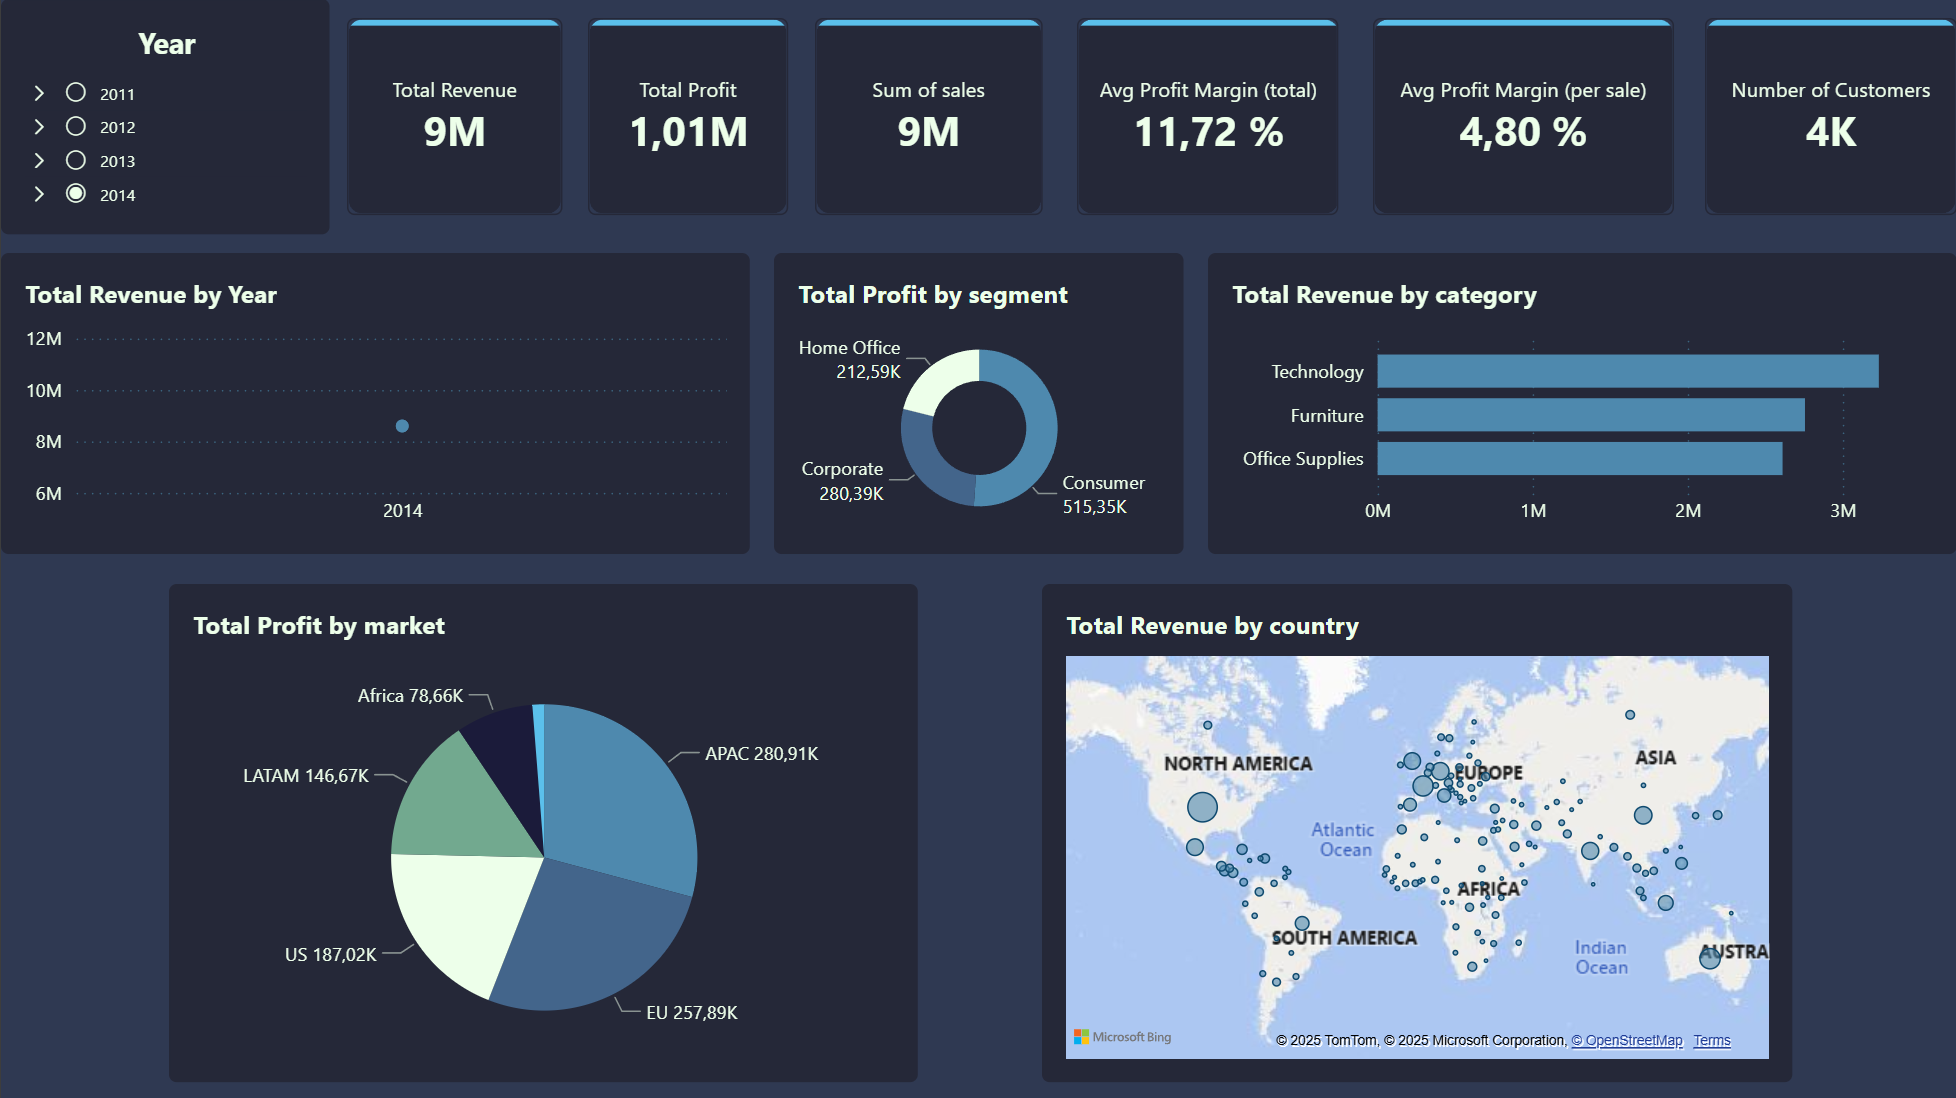

The page's visual inventory and layout, read from the dashboard file:
{"tool":"powerbi","page":{"name":"Page 1","canvas":[1280,720],"ordinal":0},"visuals":[{"type":"listSlicer","fields":{"Values":["public orders.order_date.Variation.Date Hierarchy.Year","public orders.order_date.Variation.Date Hierarchy.Quarter","public orders.order_date.Variation.Date Hierarchy.Month","public orders.order_date.Variation.Date Hierarchy.Day"]},"box":[0,0,215.3,154.4],"z":0},{"type":"cardVisual","fields":{"Data":["Measure Table.Total Revenue"]},"box":[226.4,12.4,140.7,128.9],"z":1000},{"type":"cardVisual","fields":{"Data":["Measure Table.Total Profit"]},"box":[384.1,12.4,130.9,128.9],"z":2000},{"type":"cardVisual","fields":{"Data":["Measure Table.Avg Profit Margin (weighted)"]},"box":[704.1,12.4,171.5,128.9],"z":3000},{"type":"cardVisual","fields":{"Data":["Measure Table.Avg Profit Margin (row avg)"]},"box":[897.8,12.4,197,128.9],"z":4000},{"type":"cardVisual","fields":{"Data":["Measure Table.Number of Customers"]},"box":[1115.1,12.4,164.9,128.9],"z":5000},{"type":"cardVisual","fields":{"Data":["Sum(public orders.sales)"]},"box":[532.7,12.4,148.5,128.9],"z":6000},{"type":"clusteredBarChart","fields":{"Category":["public orders.category"],"Y":["Measure Table.Total Revenue"]},"box":[789.9,166.2,490.1,197],"z":7000},{"type":"lineChart","fields":{"Category":["public orders.order_date.Variation.Date Hierarchy.Year","public orders.order_date.Variation.Date Hierarchy.Quarter","public orders.order_date.Variation.Date Hierarchy.Month","public orders.order_date.Variation.Date Hierarchy.Day"],"Y":["Measure Table.Total Revenue"]},"box":[0,166.2,490.1,197],"z":8000},{"type":"donutChart","fields":{"Category":["public orders.segment"],"Y":["Measure Table.Total Profit"]},"box":[505.8,166.2,267.6,197],"z":9000},{"type":"pieChart","fields":{"Y":["Measure Table.Total Profit"],"Category":["public orders.market_1"]},"box":[109.9,382.8,490.1,325.9],"z":10000},{"type":"map","fields":{"Category":["public orders.country"],"Size":["Measure Table.Total Revenue"]},"box":[681.2,382.8,490.8,325.9],"z":11000}]}

Visuals, with their boxes in screenshot pixels (x1, y1, x2, y2), scaled from the page's 1280x720 canvas onto the 1956x1098 screenshot:
listSlicer - public orders.order_date.Variation.Date Hierarchy.Year x public orders.order_date.Variation.Date Hierarchy.Quarter: crop(0, 0, 329, 235)
cardVisual - Measure Table.Total Revenue: crop(346, 19, 561, 215)
cardVisual - Measure Table.Total Profit: crop(587, 19, 787, 215)
cardVisual - Measure Table.Avg Profit Margin (weighted): crop(1076, 19, 1338, 215)
cardVisual - Measure Table.Avg Profit Margin (row avg): crop(1372, 19, 1673, 215)
cardVisual - Measure Table.Number of Customers: crop(1704, 19, 1955, 215)
cardVisual - Sum(public orders.sales): crop(814, 19, 1041, 215)
clusteredBarChart - public orders.category x Measure Table.Total Revenue: crop(1207, 253, 1955, 554)
lineChart - public orders.order_date.Variation.Date Hierarchy.Year x public orders.order_date.Variation.Date Hierarchy.Quarter: crop(0, 253, 749, 554)
donutChart - public orders.segment x Measure Table.Total Profit: crop(773, 253, 1182, 554)
pieChart - Measure Table.Total Profit x public orders.market_1: crop(168, 584, 917, 1081)
map - public orders.country x Measure Table.Total Revenue: crop(1041, 584, 1791, 1081)
